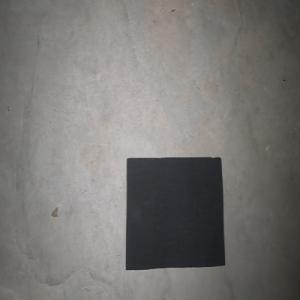PaintChip: (125, 157, 225, 270)
